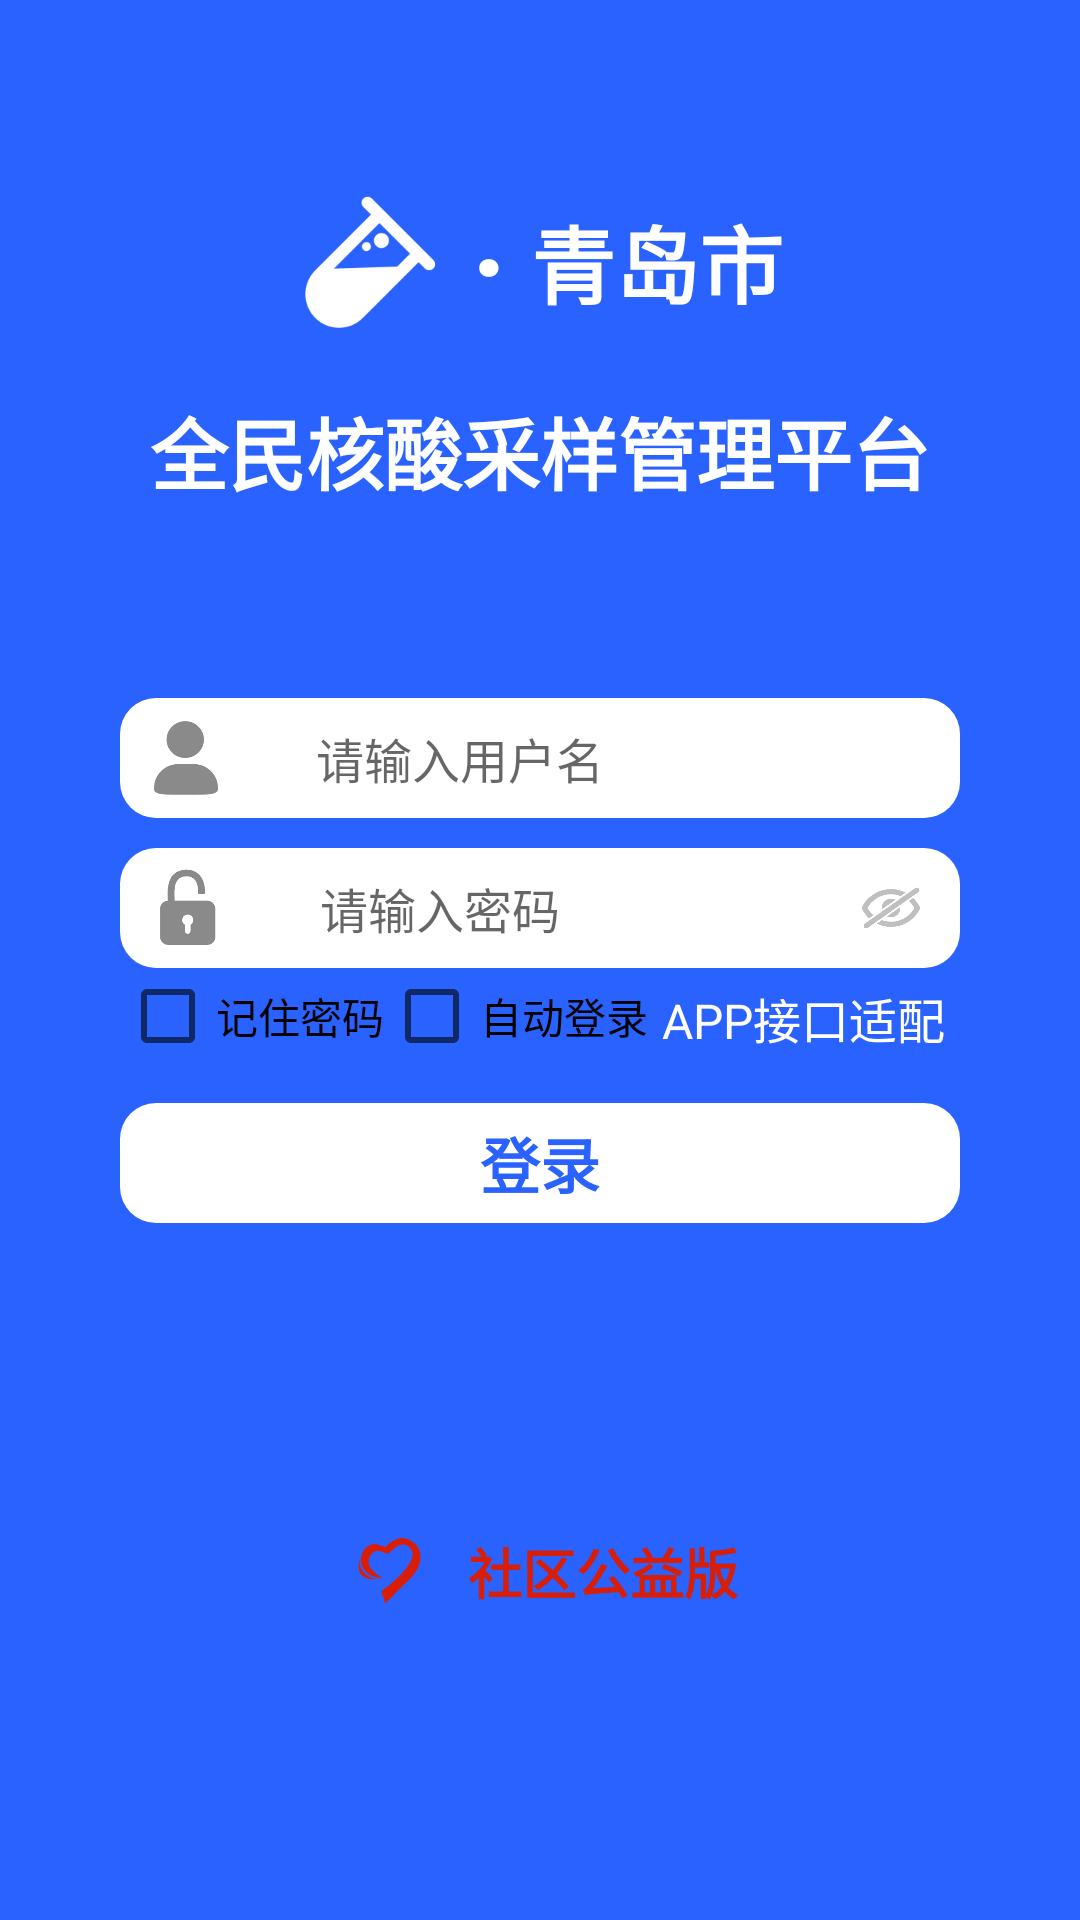

Locate icon controls on the screen. Image size 1080x1920, boxes as {"x1": x1, "y1": y1, "x2": x2, "y2": y2}.
login pwd: {"x1": 160, "y1": 869, "x2": 216, "y2": 945}
login pwd invisible: {"x1": 862, "y1": 888, "x2": 920, "y2": 928}
login user: {"x1": 154, "y1": 721, "x2": 218, "y2": 795}
login welfare: {"x1": 358, "y1": 1538, "x2": 421, "y2": 1604}
